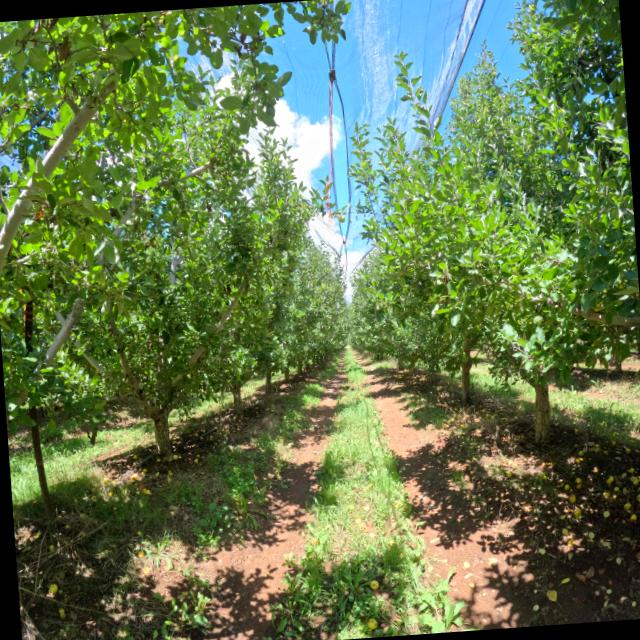-FireBlight-: (22, 19, 60, 36), (55, 35, 73, 64), (29, 195, 50, 219)
